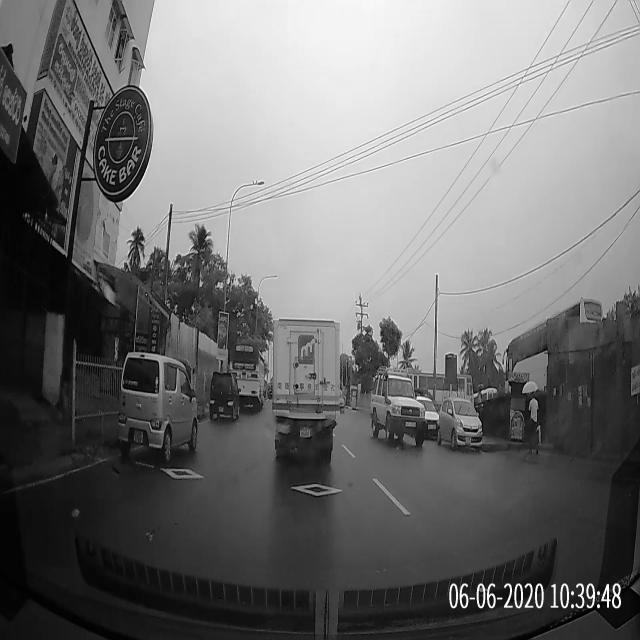diamond: (239, 466, 424, 530)
